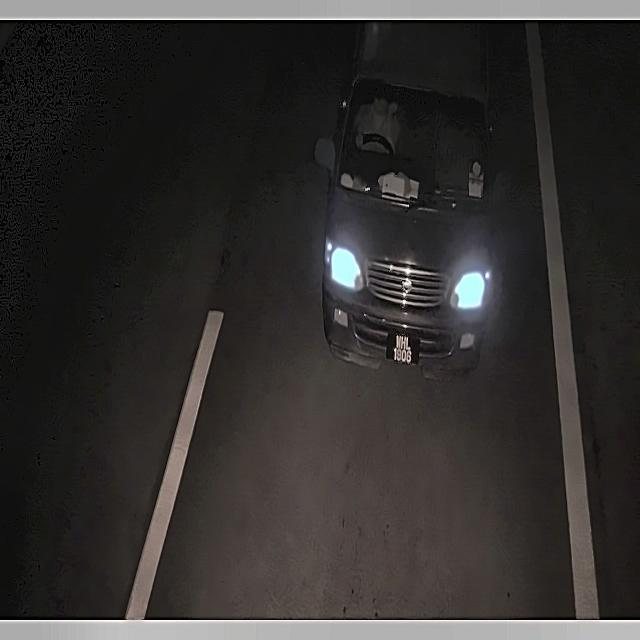car: (384, 326, 422, 368)
